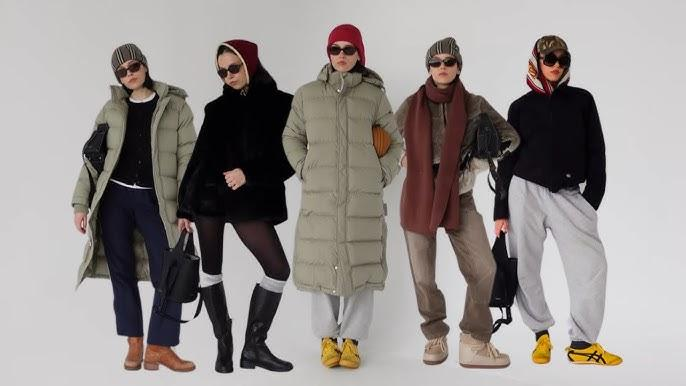coat: (281, 61, 405, 292), (71, 81, 198, 291), (177, 37, 302, 227)
jacket: (495, 82, 608, 222), (383, 90, 521, 193)
sweater: (110, 93, 164, 189)
trousers: (504, 175, 610, 345), (98, 180, 185, 349), (402, 187, 496, 341), (311, 287, 375, 344)
